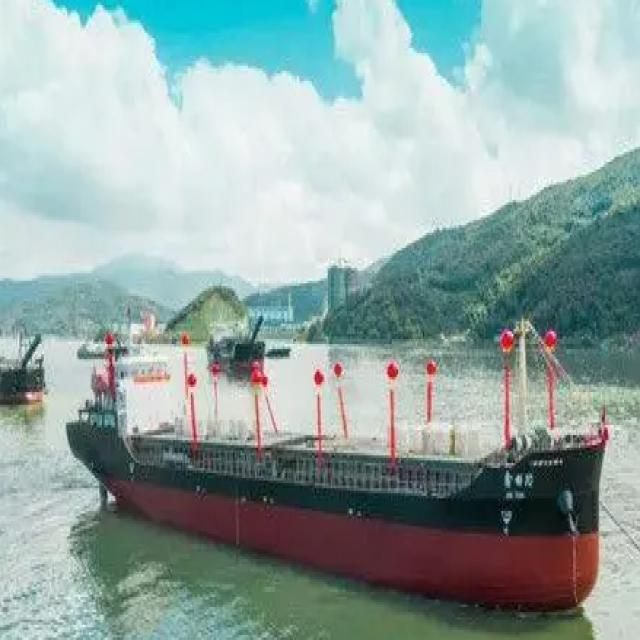cargoship: (67, 304, 612, 620)
